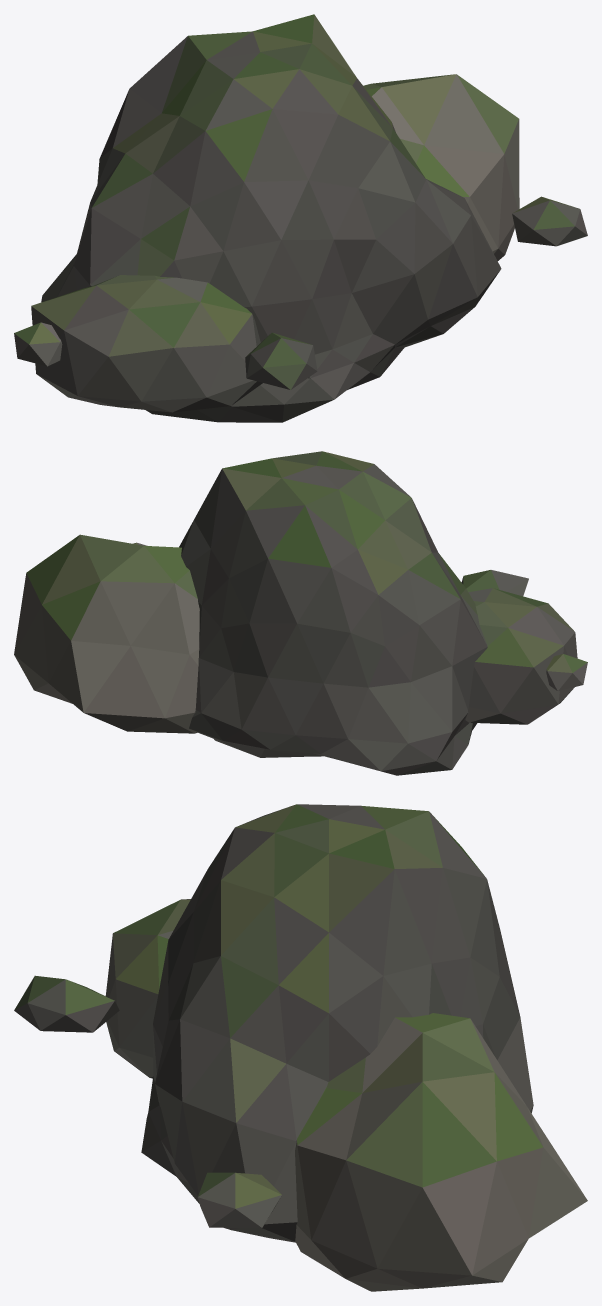
Rendered from env_andesite_outcrop.glb.
The picture shows the model from 3 angles, top to bottom: view 1: azimuth 30°, elevation 25°; view 2: azimuth 150°, elevation 25°; view 3: azimuth 270°, elevation 25°; orthographic projection. The views are drawn at different scales.
Parts seen in each view (by area): view 1: env_andesite_outcrop; view 2: env_andesite_outcrop; view 3: env_andesite_outcrop.
Boxes of the visible parts, <box> form: env_andesite_outcrop: <box>14,14,587,422</box>; env_andesite_outcrop: <box>14,451,587,775</box>; env_andesite_outcrop: <box>14,804,587,1291</box>.
Size of the model in its own units: 10 by 5.53 by 7.37.
